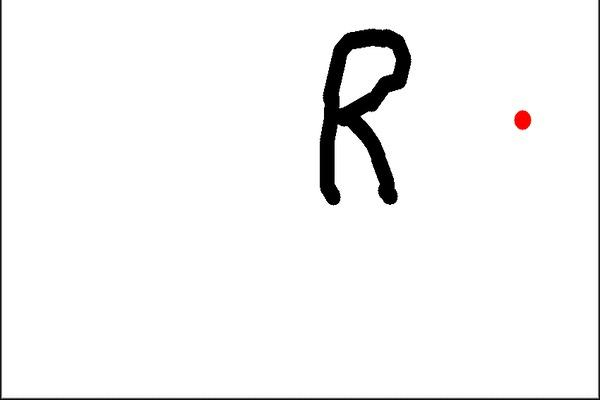R: (312, 21, 416, 213)
